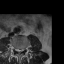CCS_normal: (18, 48, 20, 56)
LFS_normal: (22, 47, 24, 53)
LLS_normal: (20, 48, 22, 54)
RFS_normal: (14, 46, 16, 52)
RLS_normal: (16, 47, 18, 54)
